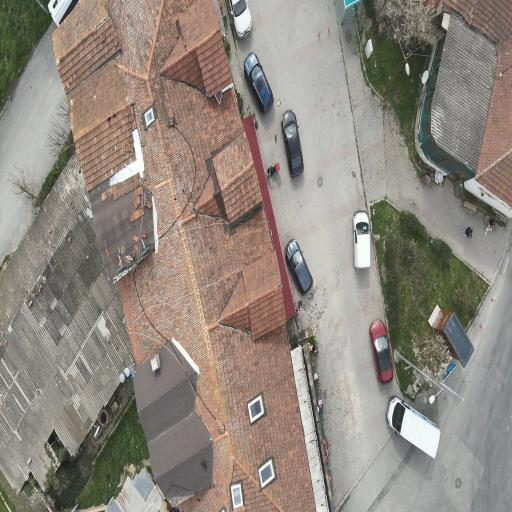car: (386, 396, 440, 457), (244, 53, 273, 112), (281, 110, 304, 178), (285, 239, 313, 294), (370, 320, 393, 384), (353, 210, 371, 268), (230, 0, 251, 38), (48, 0, 78, 26)
person: (486, 219, 495, 234), (462, 227, 472, 239)
